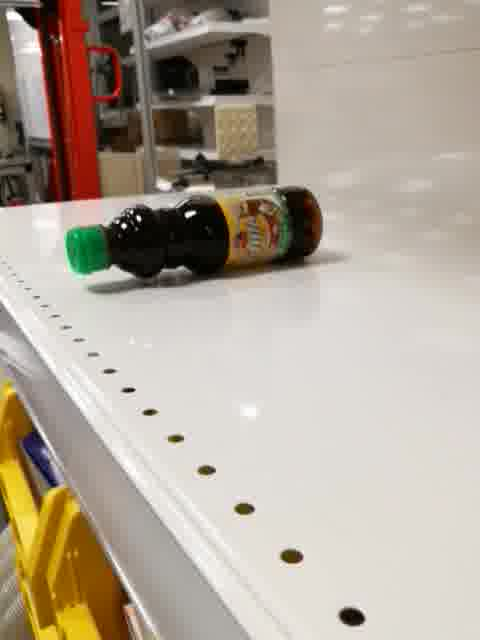cookingoil: (63, 185, 324, 283)
